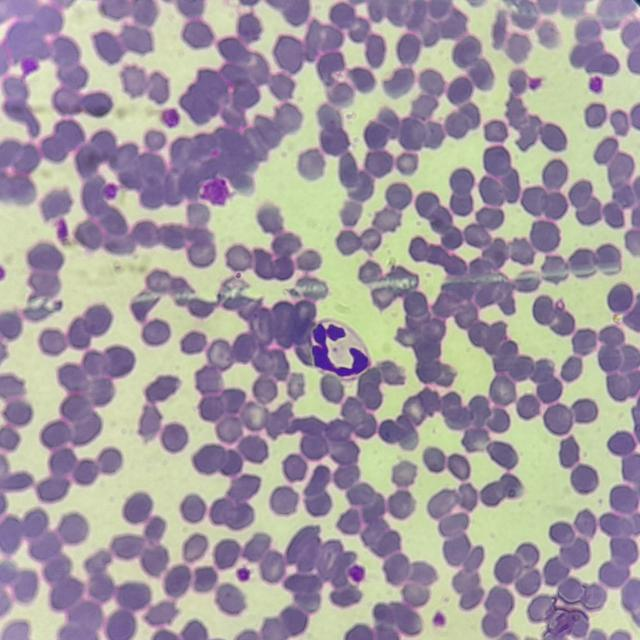Neutrofilo: (302, 314, 377, 380)
